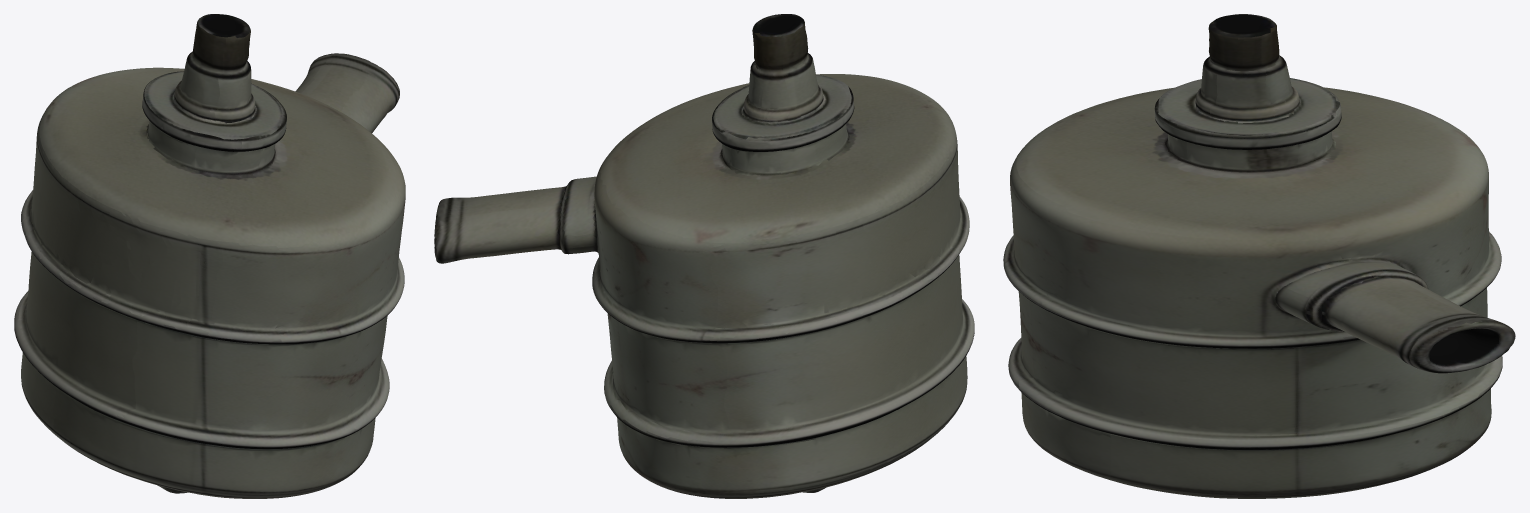
File: feature-fuel-pump.glb
The picture shows the model from 3 angles, left to right: view 1: azimuth 30°, elevation 25°; view 2: azimuth 150°, elevation 25°; view 3: azimuth 270°, elevation 25°; orthographic projection. The views are drawn at different scales.
Visible parts, largest first — view 1: tmpuhuvmfl0.ply; view 2: tmpuhuvmfl0.ply; view 3: tmpuhuvmfl0.ply.
Boxes of the visible parts, left/top/right/bottom form: tmpuhuvmfl0.ply: left=14, top=14, right=405, bottom=498; tmpuhuvmfl0.ply: left=434, top=14, right=974, bottom=498; tmpuhuvmfl0.ply: left=1003, top=14, right=1515, bottom=498.
Size of the model in its own units: 1 by 1 by 1.
1 material, 1 textured.
